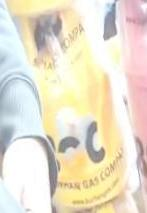cylinder: (1, 1, 147, 213)
